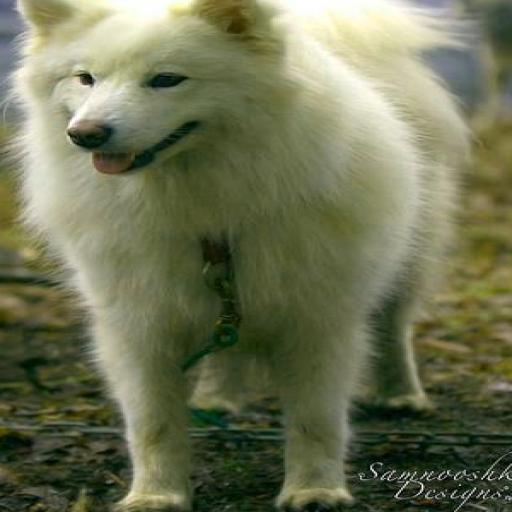dog_face: (5, 0, 260, 167)
